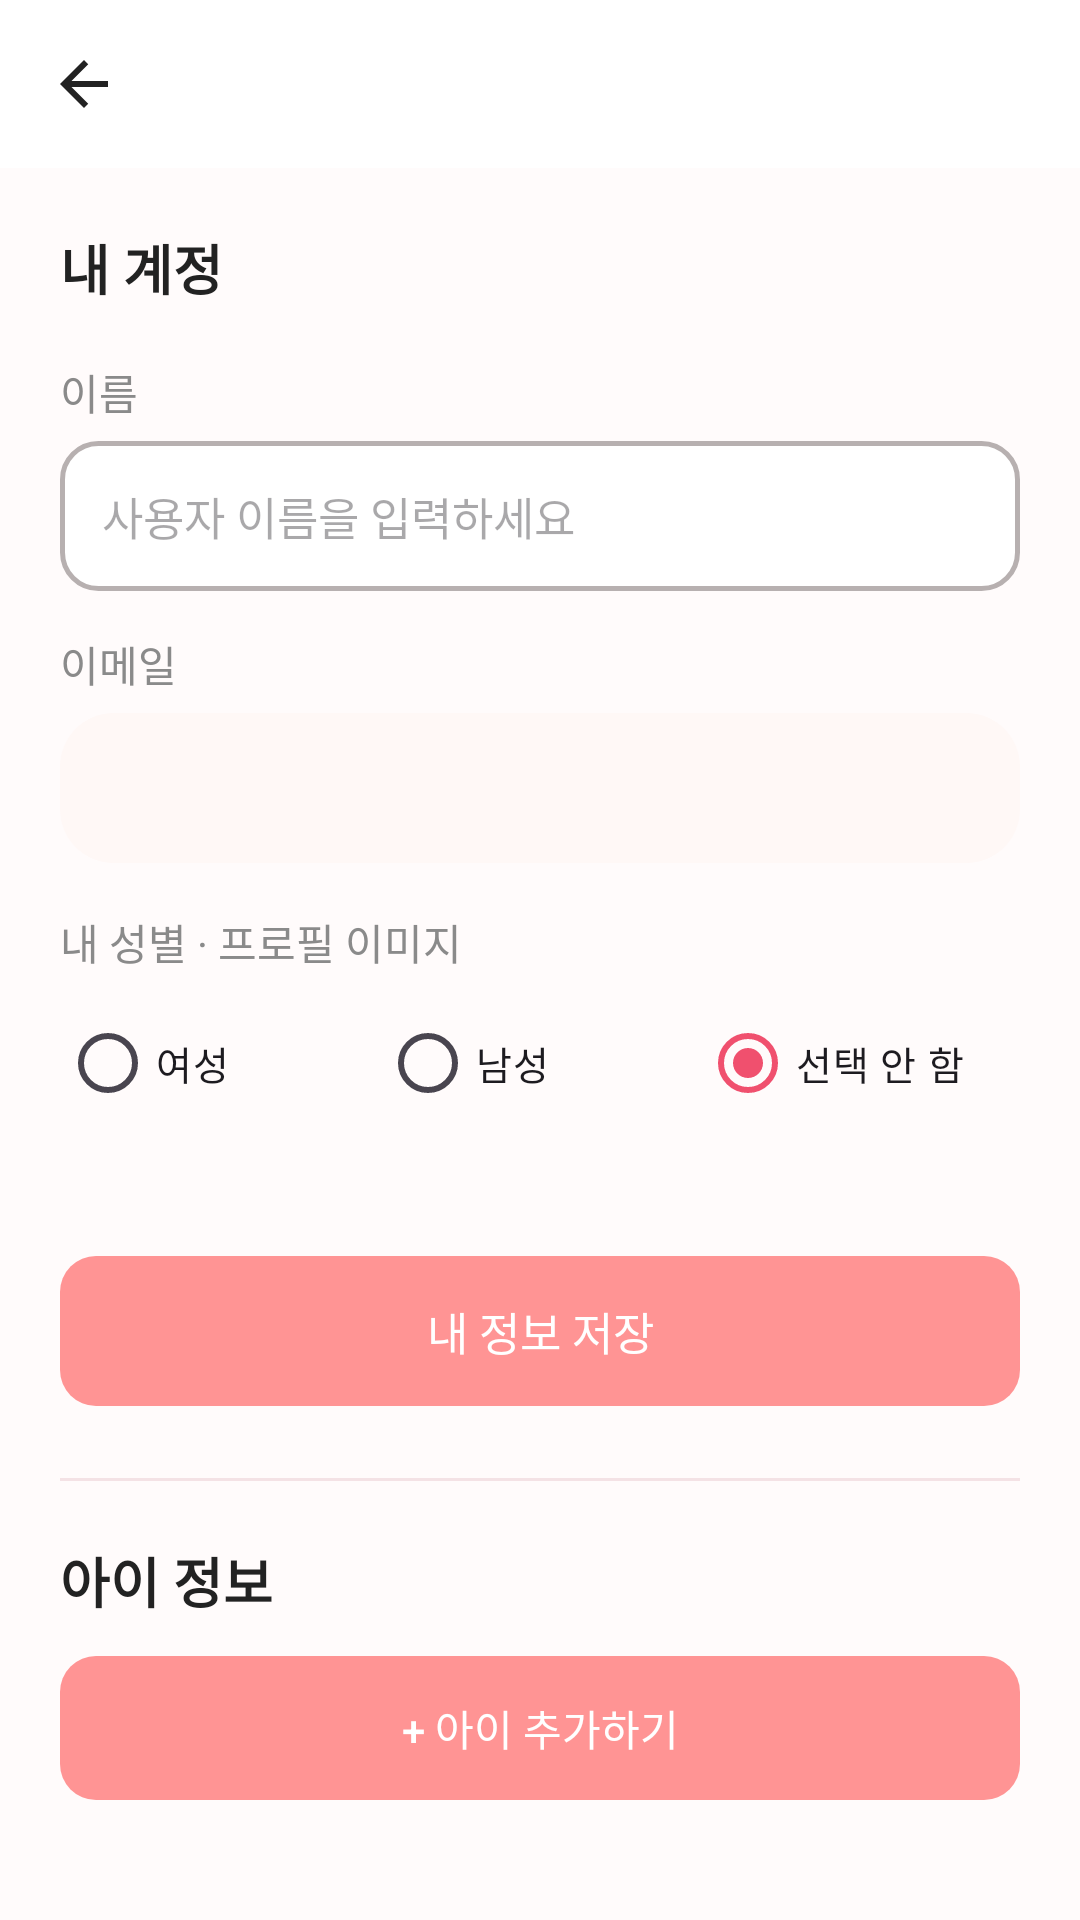

Point at icon controls on the screen. Image size 1080px×1920px, points as (x=x, y=y).
돌아가기: (x=84, y=84)
